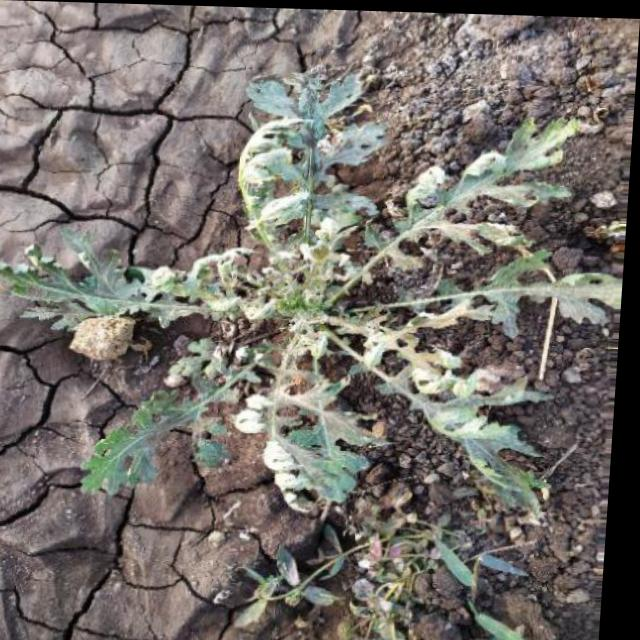weed: (17, 100, 609, 542)
